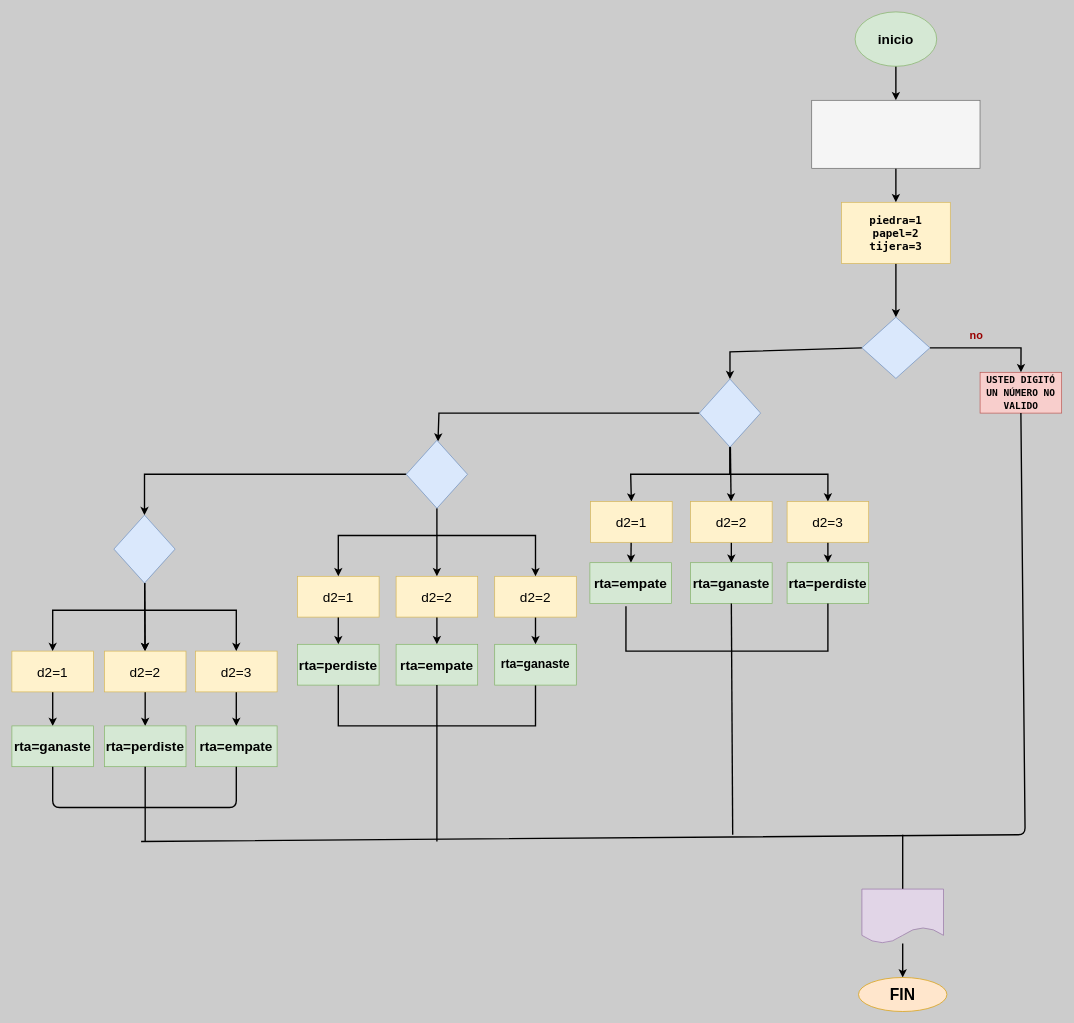
Image size: 1074x1023. Some labels were removed from this diagram. Here are the shapes that lost their labels. From the top down, the box of each, then its label:
(811, 100, 980, 168): ( maquina ) d1=random (1,2,3) ( jugador ) d2=random (1,2,3)
(861, 317, 930, 378): d>3
(699, 378, 761, 447): d1=1
(406, 440, 468, 508): d1=2
(113, 514, 175, 583): d1=3
(861, 888, 944, 944): rta
